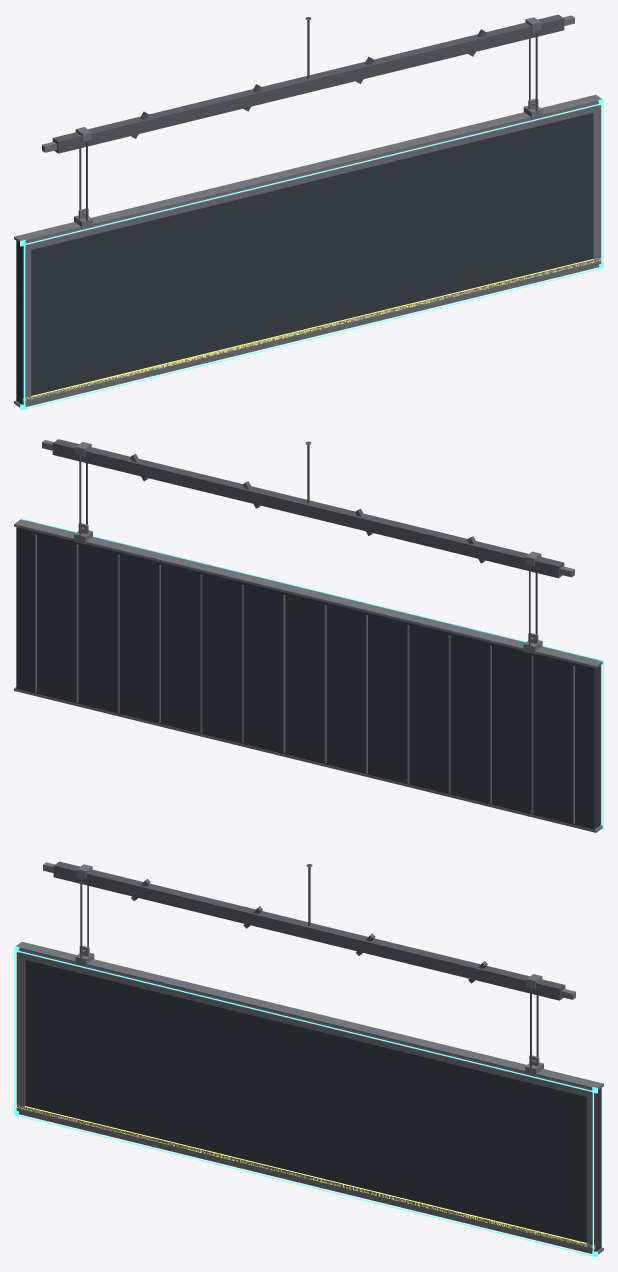
Rendered from monitor.glb.
3 views of the same model, one above another, from view 1: azimuth 30°, elevation 25°; view 2: azimuth 150°, elevation 25°; view 3: azimuth 330°, elevation 25° (orthographic).
Visible parts, largest first — view 1: Housing, RigBar, TopCap, BzBot, BzTop, StatusBar, BzR, BzL, LB_T, LB_B, BotCap; view 2: Housing, RigBar, TopCap, BotCap, LB_T; view 3: Housing, RigBar, TopCap, BzBot, BzTop, StatusBar, BzL, BzR, LB_T, LB_B, BotCap.
Part boxes in pixels (x1,y1,x2,y2): Housing: [16, 113, 592, 404]; RigBar: [52, 14, 564, 153]; TopCap: [14, 94, 601, 242]; BzBot: [22, 258, 601, 406]; BzTop: [22, 103, 601, 251]; StatusBar: [23, 258, 600, 401]; BzR: [592, 111, 601, 259]; BzL: [22, 250, 31, 398]; LB_T: [24, 103, 603, 244]; LB_B: [25, 267, 603, 409]; BotCap: [14, 267, 598, 407]; Housing: [16, 527, 600, 829]; RigBar: [52, 439, 564, 578]; TopCap: [14, 519, 602, 668]; BotCap: [14, 687, 602, 832]; LB_T: [25, 519, 603, 660]; Housing: [25, 960, 601, 1251]; RigBar: [53, 861, 565, 1000]; TopCap: [16, 941, 603, 1089]; BzBot: [16, 1105, 595, 1253]; BzTop: [16, 950, 595, 1098]; StatusBar: [16, 1105, 595, 1248]; BzL: [16, 958, 25, 1106]; BzR: [586, 1097, 595, 1245]; LB_T: [14, 950, 593, 1091]; LB_B: [14, 1114, 592, 1256]; BotCap: [19, 1114, 603, 1254].
Size of the model in its own units: 29.04 by 15.17 by 0.846.
